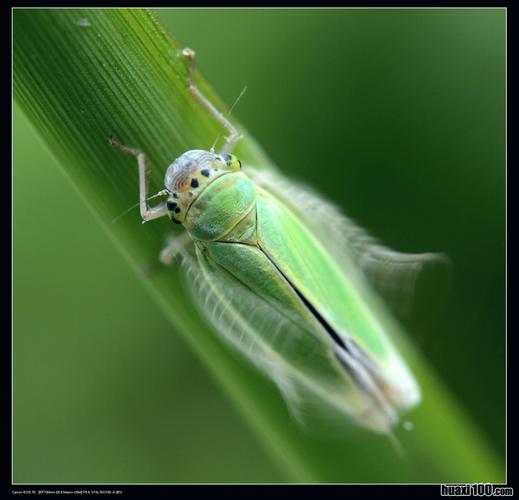Cicadellidae: (114, 49, 421, 434)
